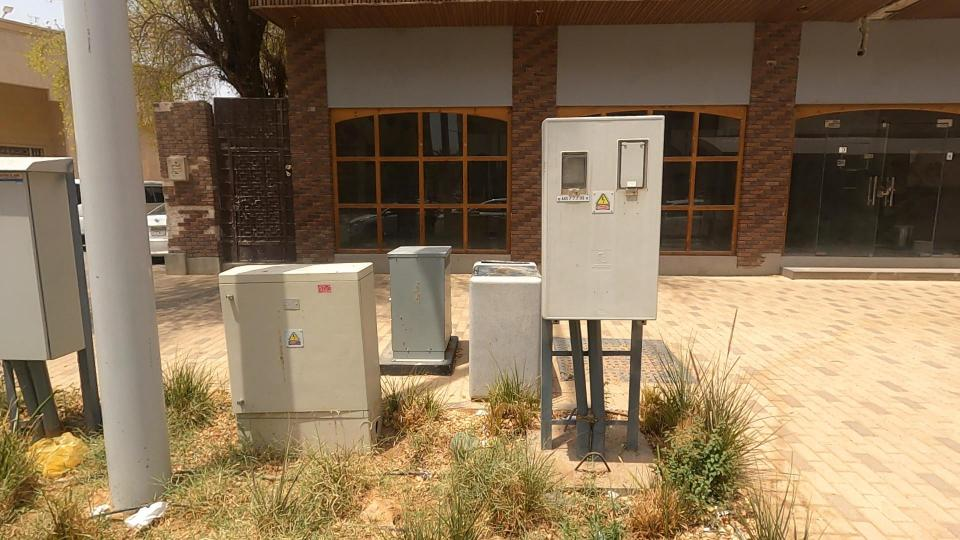GARBAGE: (3, 398, 119, 503), (76, 482, 204, 540), (65, 485, 122, 526)
